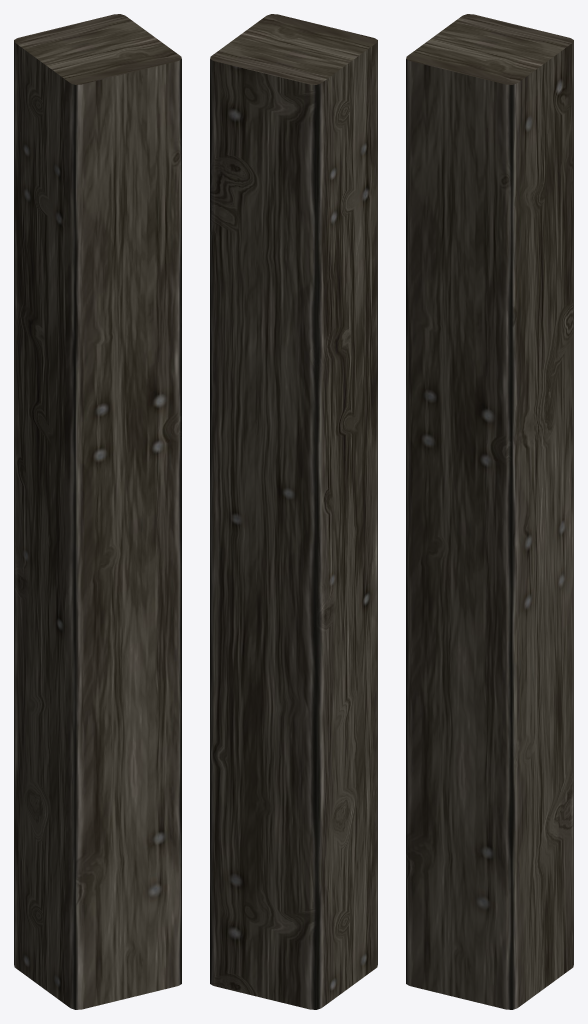
The model's file is woodPlank.fbx.
3 renders of one model, left to right at view 1: azimuth 30°, elevation 25°; view 2: azimuth 150°, elevation 25°; view 3: azimuth 330°, elevation 25°, orthographic.
Visible parts, largest first — view 1: Plank; view 2: Plank; view 3: Plank.
Part boxes in pixels (bbox=[...]): Plank: bbox=[14, 14, 181, 1009]; Plank: bbox=[210, 14, 377, 1009]; Plank: bbox=[406, 14, 573, 1009].
Bounding box in the file's own units: 25 × 200 × 25.
1 material, 1 textured.
